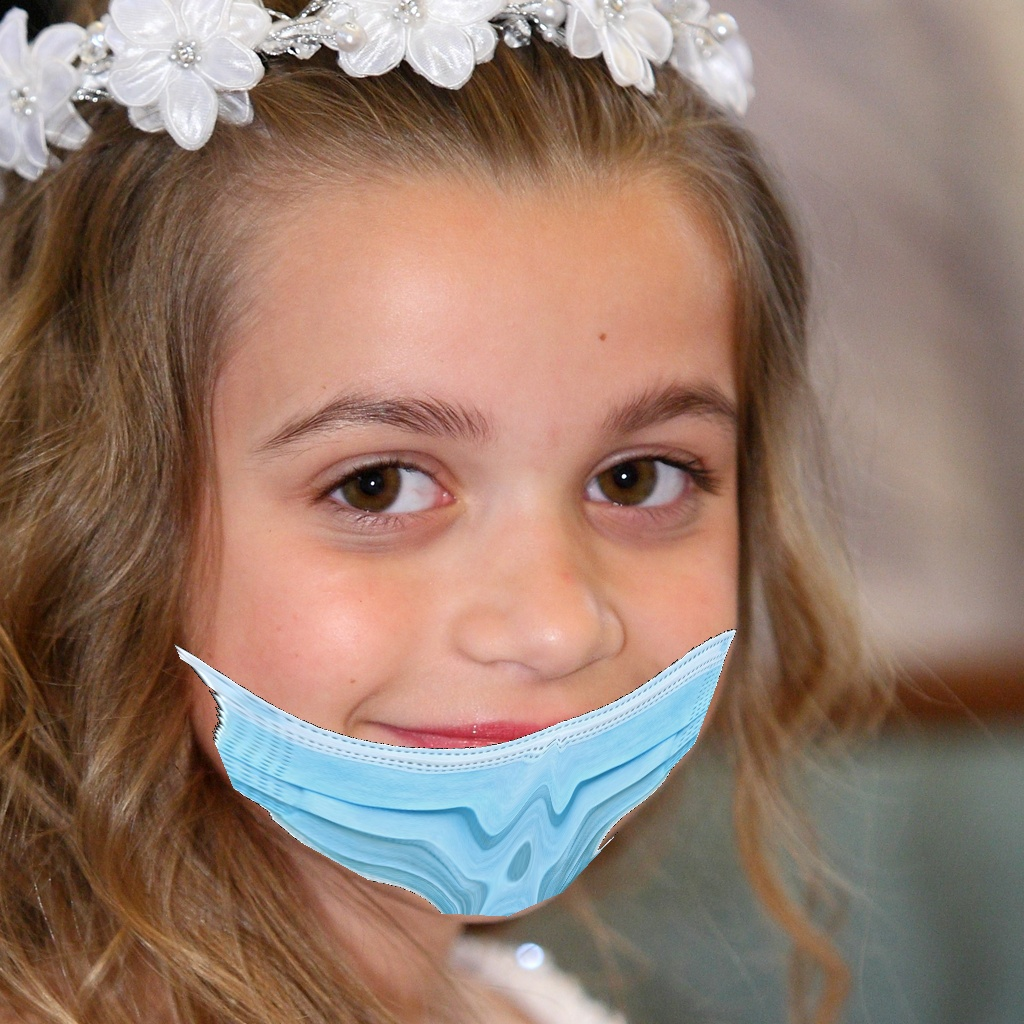mask_weared_incorrect: (146, 348, 779, 939)
